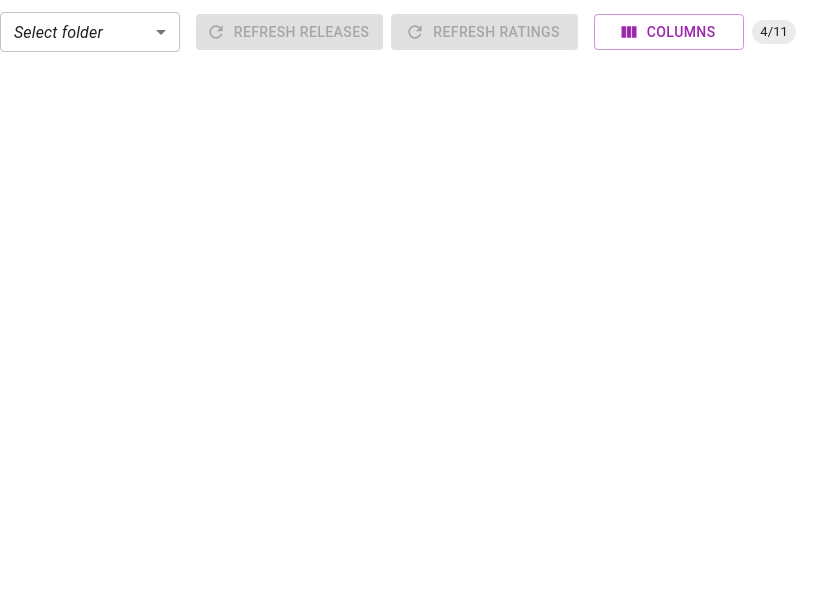
CollectionToolbar › opens the column controls and reports the visible column count
The width and height of the screenshot is (837, 613).
Check: the text "4/11" is shown, box [760, 24, 788, 39]
Click the button with aria-label "Show or hide columns". click: (669,32)
box: [594, 14, 744, 50]
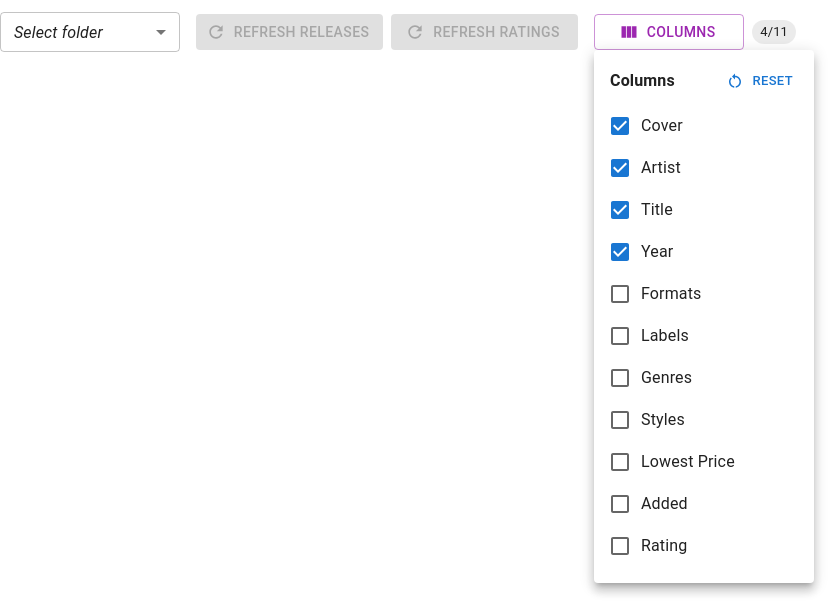
Check: the number of buttons "Columns" is 2, box [594, 14, 744, 50]; [610, 69, 675, 93]
Check: the checkbox labelled "Cover" is checked, box [608, 114, 683, 138]
